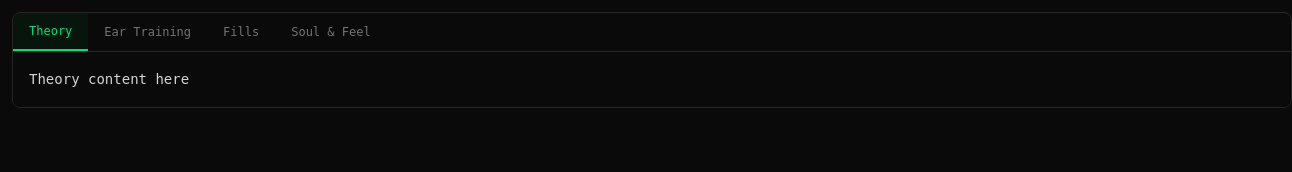
LessonTabs › switches to Ear Training content on click
Click the button "Ear Training" at point(148, 32), box [88,13,207,51]
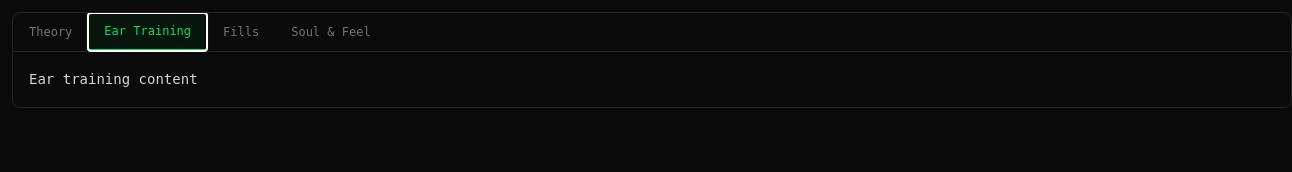
Check: the text "Ear training content" is shown, box [29,71,198,87]
Check: the text "Theory content here" is gone
